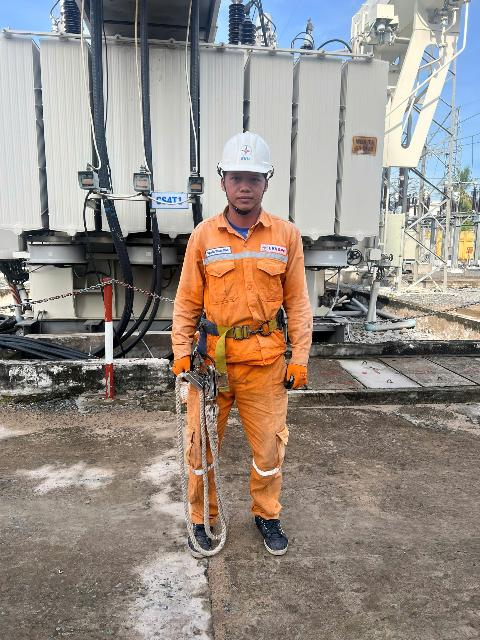gloves: (278, 358, 313, 394), (162, 358, 206, 385)
harness: (197, 308, 304, 363)
helmet: (211, 131, 286, 183)
shoes: (181, 512, 229, 562), (250, 501, 292, 558)
